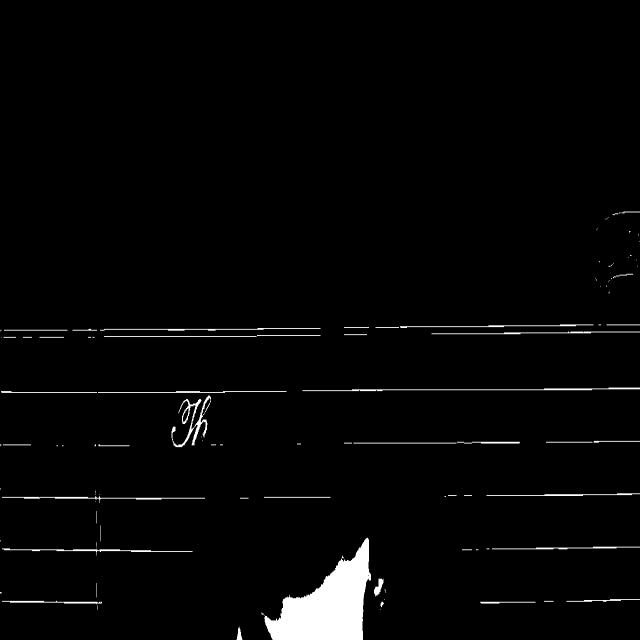hand: (265, 539, 370, 639), (236, 627, 242, 639)
noise: (341, 323, 640, 336), (0, 327, 321, 339), (0, 542, 193, 556), (0, 492, 206, 503), (341, 439, 640, 446), (299, 385, 640, 391), (0, 388, 292, 395), (441, 491, 640, 498), (480, 596, 640, 604), (0, 598, 102, 609), (461, 545, 640, 551), (92, 491, 101, 556), (0, 442, 83, 448), (262, 492, 330, 499), (91, 580, 101, 611), (86, 443, 130, 448), (279, 441, 304, 448), (205, 442, 244, 446), (240, 497, 248, 499)
not-noise: (171, 395, 211, 447)
page-marker: (596, 212, 640, 289)
